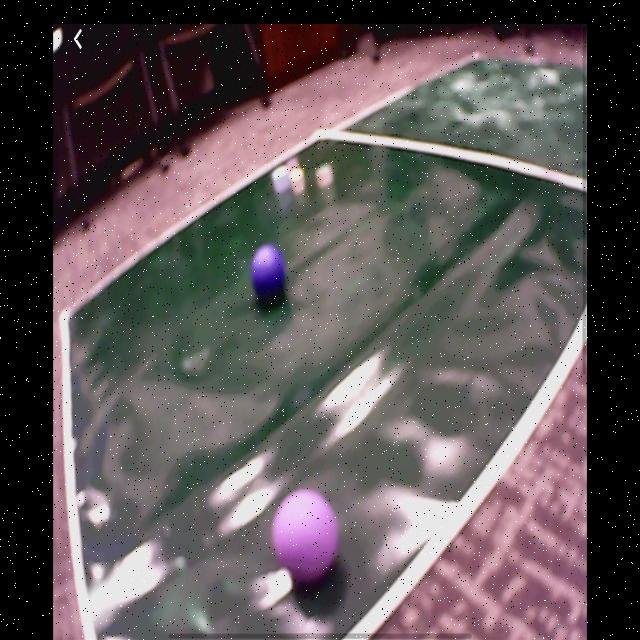ball: (274, 487, 340, 584), (252, 246, 286, 294)
